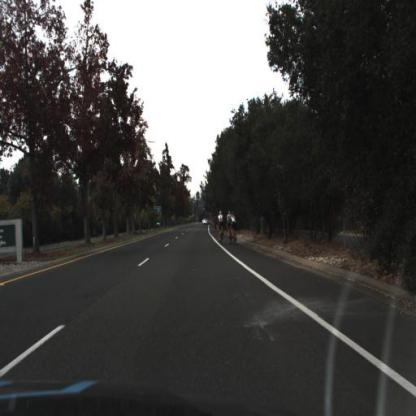biker: (217, 211, 225, 244), (227, 211, 235, 243), (231, 211, 238, 244)
